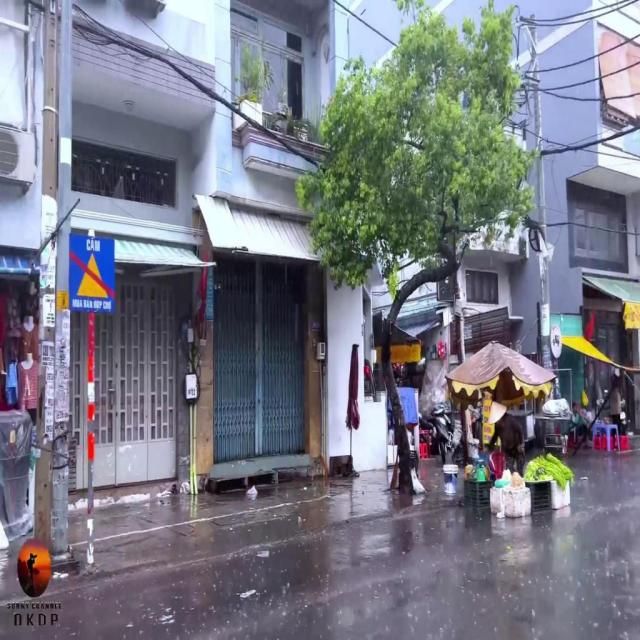cam_o_to_tai: (550, 325, 562, 359)
khac: (68, 234, 115, 313)
